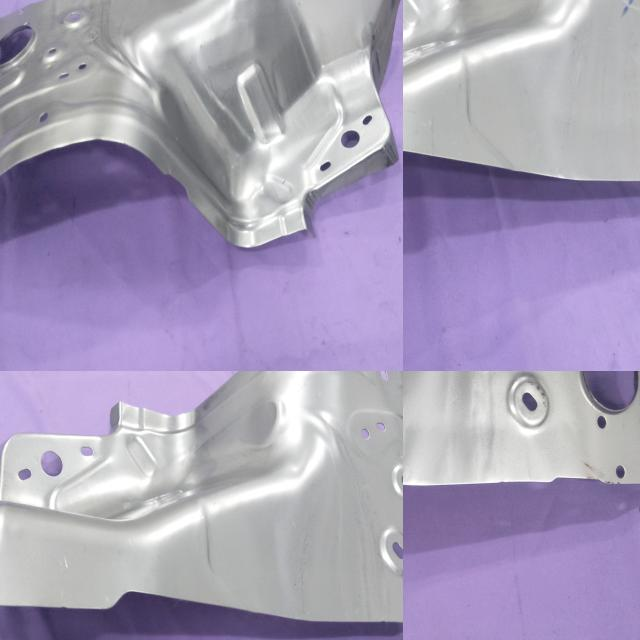Defect: (154, 153, 210, 228)
Healthy: (403, 0, 640, 198)
